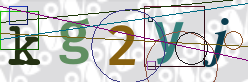2: (107, 24, 136, 66)
g: (58, 17, 89, 65)
j: (201, 17, 230, 68)
k: (7, 26, 40, 67)
y: (153, 20, 184, 65)
